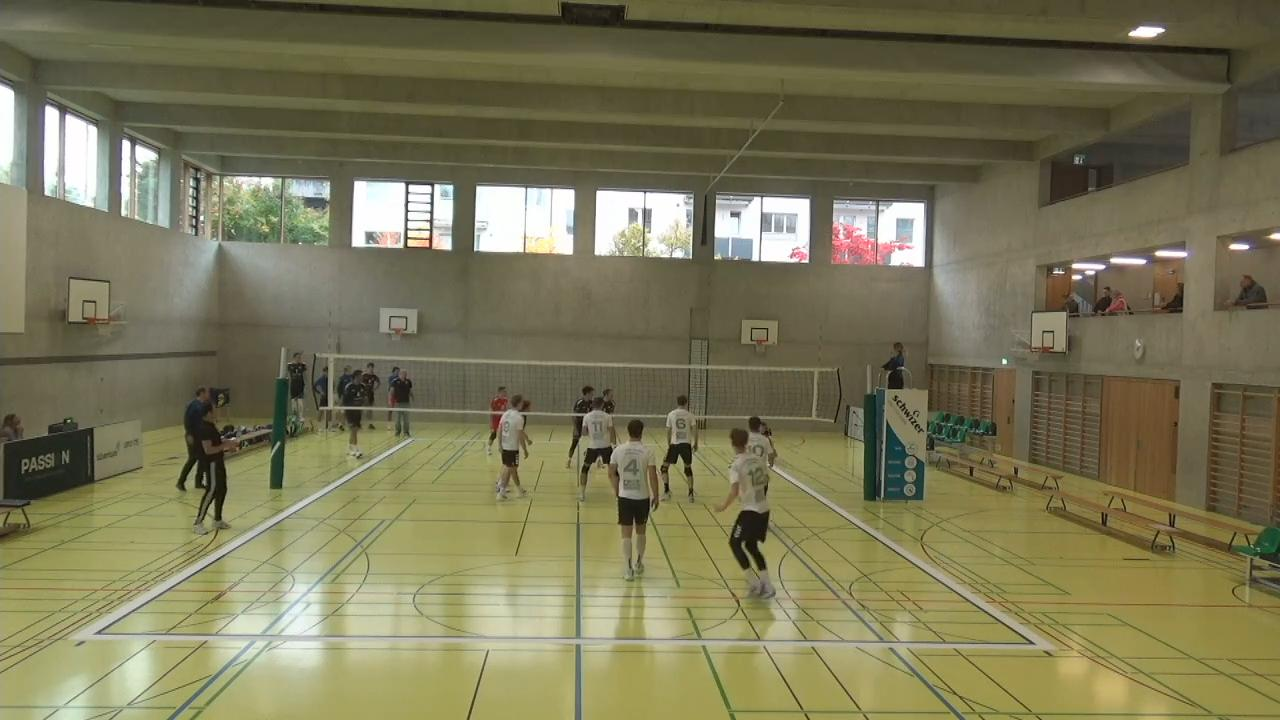ricezione: (756, 414, 777, 457)
